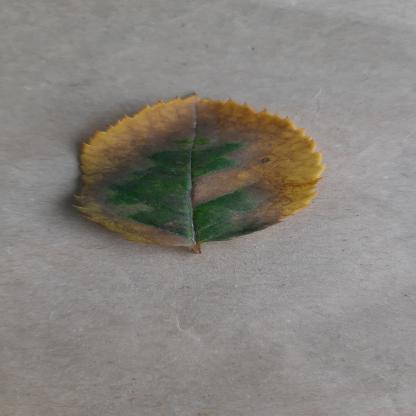black-spot: (62, 91, 328, 249)
